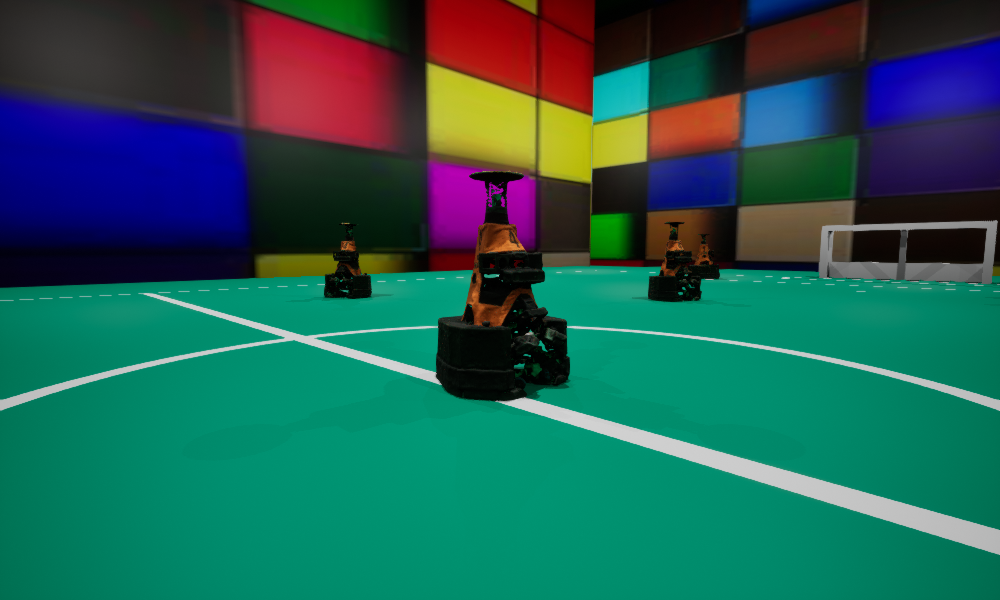o: (436, 171, 569, 400), (648, 222, 701, 301), (324, 223, 371, 297), (688, 234, 719, 278)
